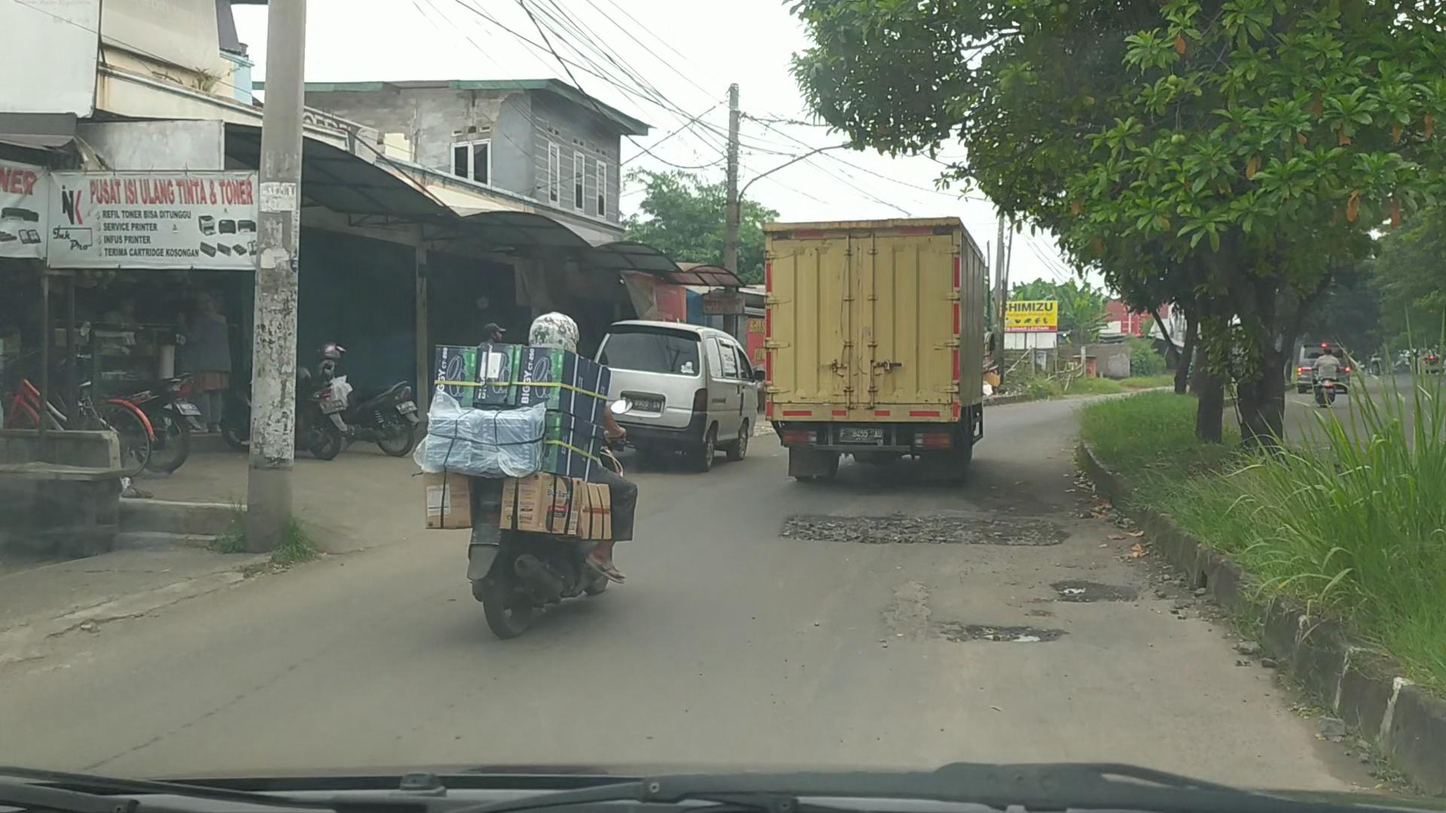pothole: (790, 513, 1068, 550), (949, 618, 1060, 646), (1056, 577, 1134, 603)
